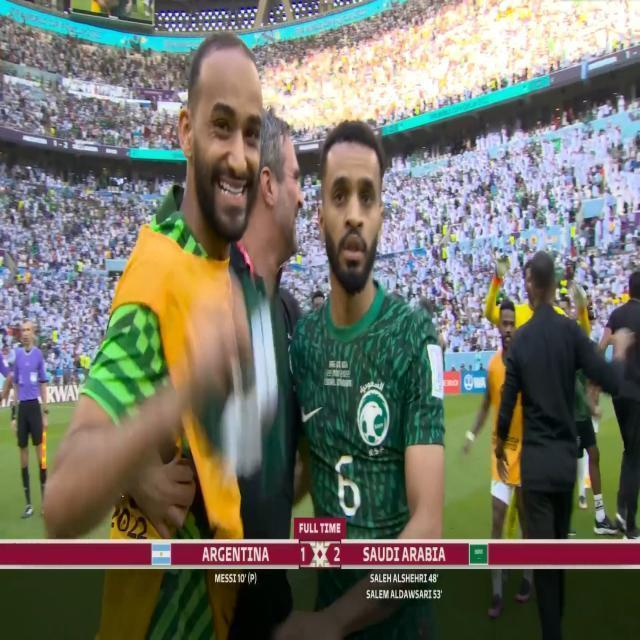player: (108, 0, 263, 546), (303, 118, 447, 537), (487, 299, 527, 542)
